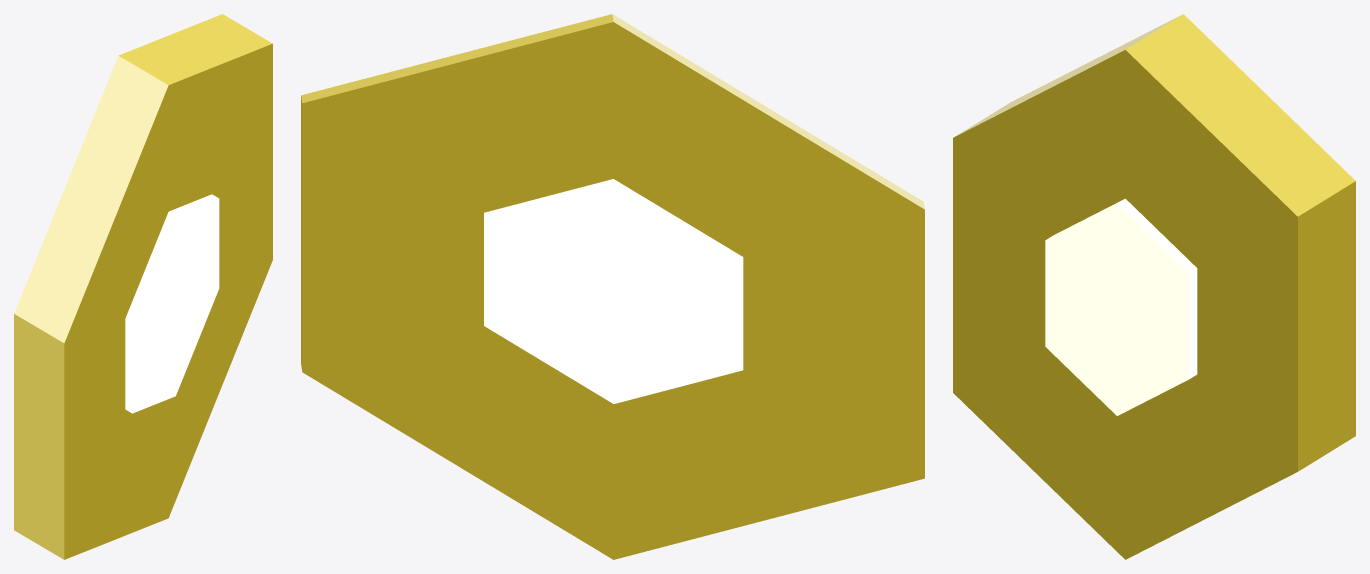
The model's file is Gem_1.gltf.
3 renders of one model, left to right at view 1: azimuth 30°, elevation 25°; view 2: azimuth 150°, elevation 25°; view 3: azimuth 270°, elevation 25°, orthographic. The views are drawn at different scales.
Parts seen in each view (by area): view 1: Gem_1_baked; view 2: Gem_1_baked; view 3: Gem_1_baked.
Part boxes in pixels (x1,y1,x2,y2): Gem_1_baked: (14, 14, 272, 559); Gem_1_baked: (301, 14, 924, 559); Gem_1_baked: (953, 14, 1355, 559).
Size of the model in its own units: 0.4412 by 0.4998 by 0.3434.
